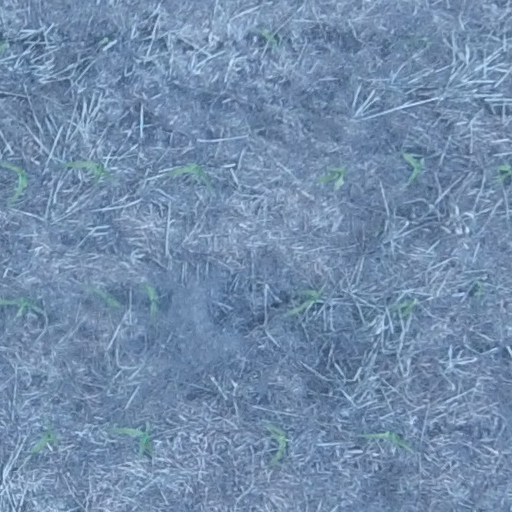planta: (106, 424, 156, 458), (59, 157, 117, 185), (164, 159, 212, 188), (359, 428, 413, 453), (262, 421, 290, 468), (285, 286, 326, 317), (27, 422, 61, 457), (314, 163, 349, 192), (400, 149, 426, 186), (88, 285, 122, 310), (139, 280, 159, 318), (389, 296, 420, 320), (257, 26, 281, 49), (472, 278, 486, 299)
